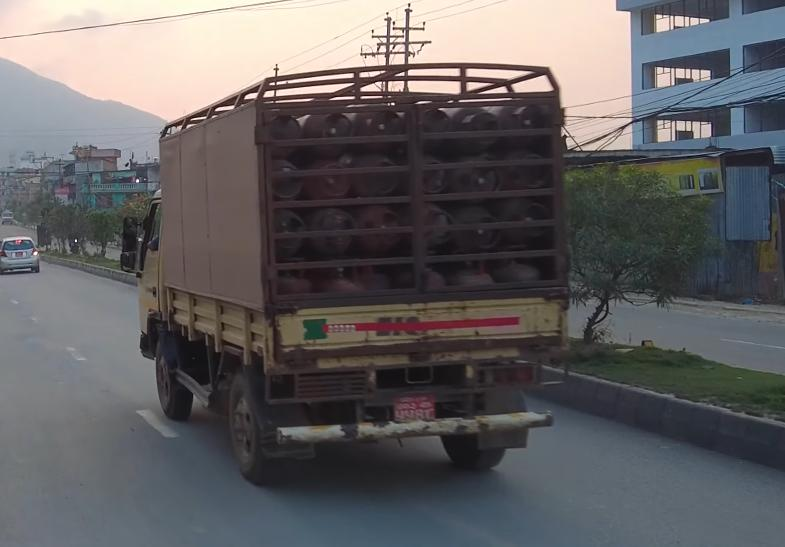car: (0, 227, 50, 284)
mini_truck: (128, 52, 575, 484)
